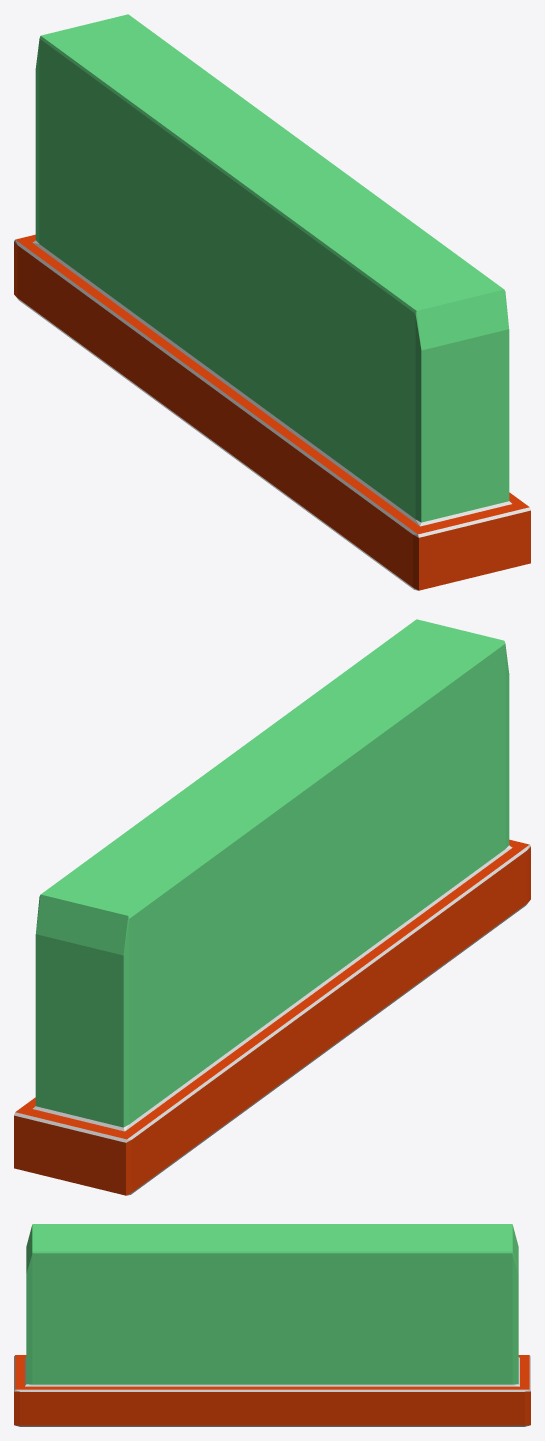
The model's file is Cit_2.fbx.
The picture shows the model from 3 angles, top to bottom: view 1: azimuth 30°, elevation 25°; view 2: azimuth 150°, elevation 25°; view 3: azimuth 270°, elevation 25°; orthographic projection. The views are drawn at different scales.
Visible parts, largest first — view 1: Cube; view 2: Cube; view 3: Cube.
Boxes of the visible parts, x1,y1,x2,y2 form: Cube: [14, 14, 530, 590]; Cube: [14, 619, 530, 1195]; Cube: [14, 1224, 530, 1426].
Size of the model in its own units: 1.03 by 2.32 by 6.32.
